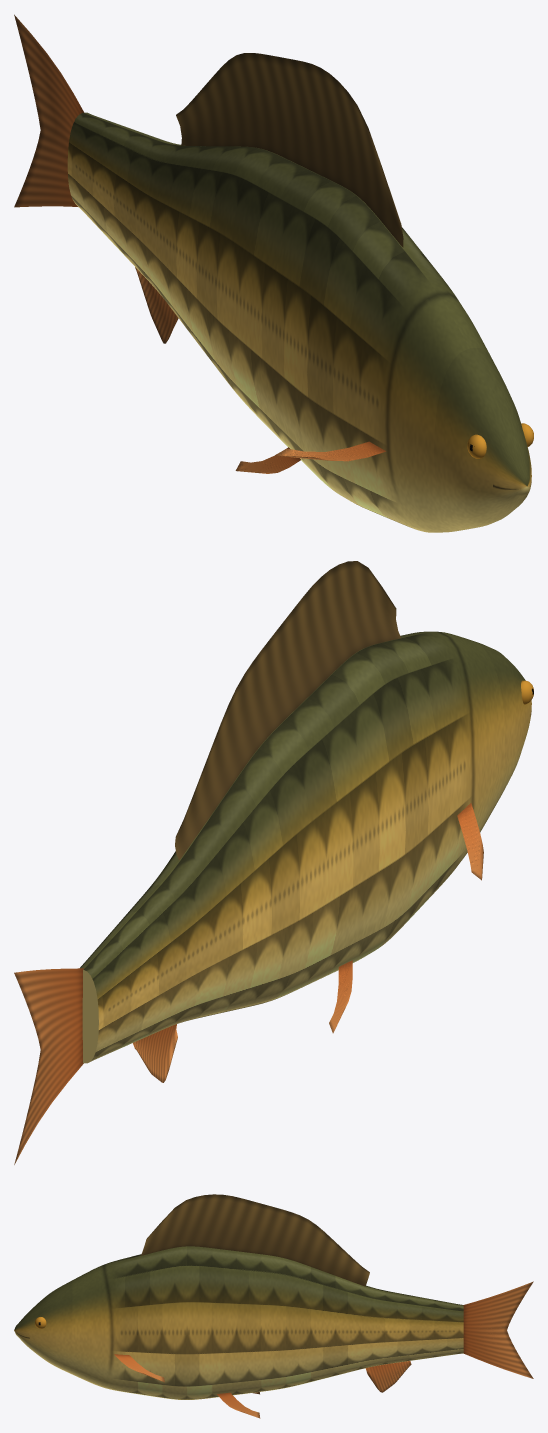
Rendered from crucian.obj.
3 views of the same model, one above another, from view 1: azimuth 30°, elevation 25°; view 2: azimuth 150°, elevation 25°; view 3: azimuth 270°, elevation 25° (orthographic). The views are drawn at different scales.
Parts seen in each view (by area): view 1: crucian_body, crucian_fin_d, crucian_fin_p; view 2: crucian_body, crucian_fin_d, crucian_fin_p; view 3: crucian_body, crucian_fin_d, crucian_fin_p.
Part boxes in pixels (<box>): crucian_body: <box>67,112,531,532</box>; crucian_fin_d: <box>176,53,403,247</box>; crucian_fin_p: <box>14,14,385,473</box>; crucian_body: <box>80,631,531,1063</box>; crucian_fin_d: <box>175,561,400,860</box>; crucian_fin_p: <box>14,803,483,1164</box>; crucian_body: <box>14,1246,463,1399</box>; crucian_fin_d: <box>141,1194,369,1286</box>; crucian_fin_p: <box>114,1281,533,1418</box>.
Size of the model in its own units: 0.0755 by 0.1457 by 0.3237.
5 materials, 3 textured.
